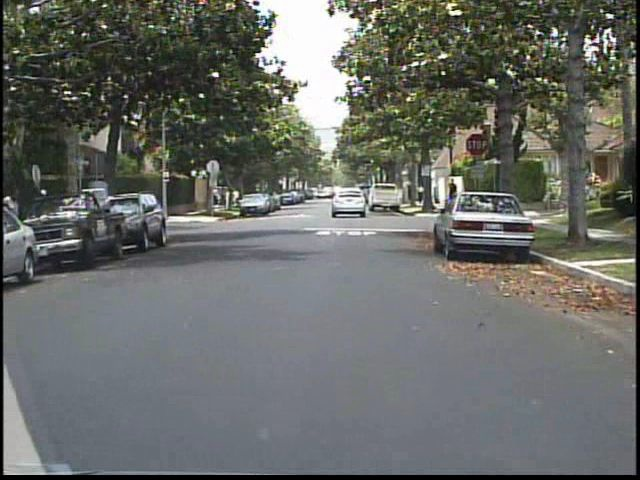person: (5, 183, 32, 274), (444, 176, 461, 213), (416, 179, 427, 205)
